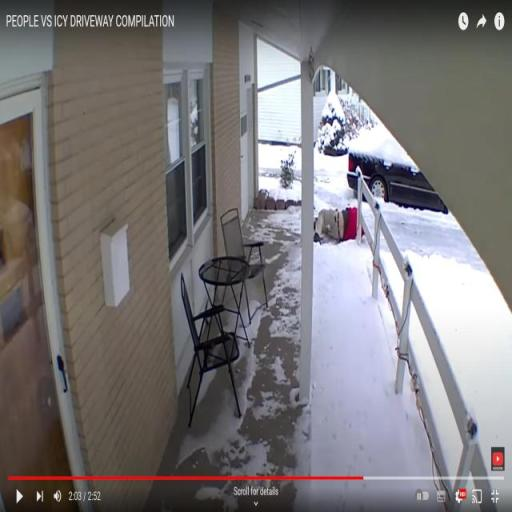Fall: (313, 205, 366, 248)
